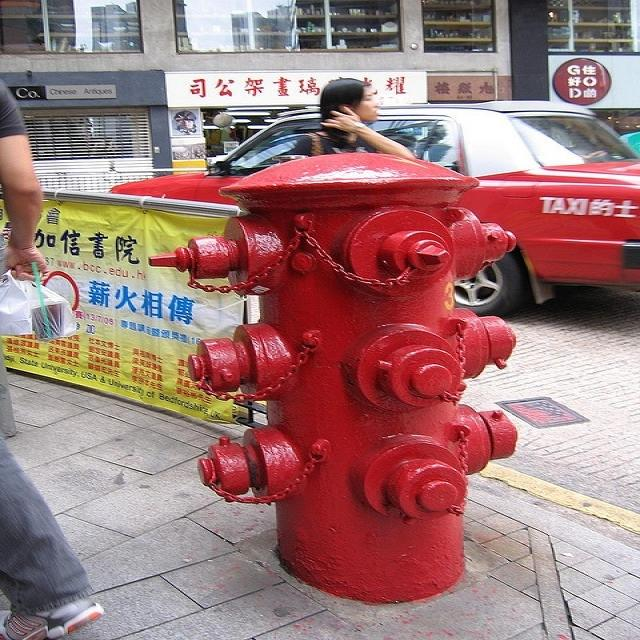fire_hydrant: (154, 124, 581, 596)
